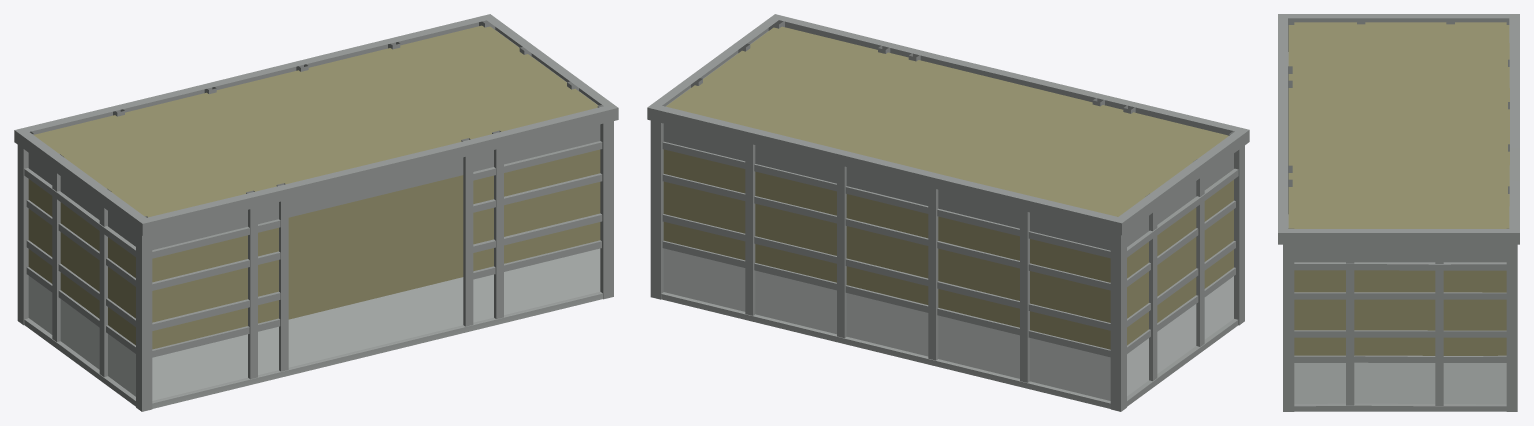
The picture shows the model from 3 angles, left to right: view 1: azimuth 30°, elevation 25°; view 2: azimuth 150°, elevation 25°; view 3: azimuth 270°, elevation 25°; orthographic projection. The views are drawn at different scales.
Visible parts, largest first — view 1: G:\FFXIV-MapTools\exports\e3t1\bg\ex2\02_est_e3\twn\e3t1\bgp (×4); view 2: G:\FFXIV-MapTools\exports\e3t1\bg\ex2\02_est_e3\twn\e3t1\bgp (×4); view 3: G:\FFXIV-MapTools\exports\e3t1\bg\ex2\02_est_e3\twn\e3t1\bgp (×4).
Part boxes in pixels (x1=…): G:\FFXIV-MapTools\exports\e3t1\bg\ex2\02_est_e3\twn\e3t1\bgp (×4): x1=14, y1=14, x2=618, y2=411; G:\FFXIV-MapTools\exports\e3t1\bg\ex2\02_est_e3\twn\e3t1\bgp (×4): x1=647, y1=14, x2=1249, y2=411; G:\FFXIV-MapTools\exports\e3t1\bg\ex2\02_est_e3\twn\e3t1\bgp (×4): x1=1278, y1=14, x2=1519, y2=411.
Bounding box in the file's own units: 18.56 × 7.1 × 8.66.
